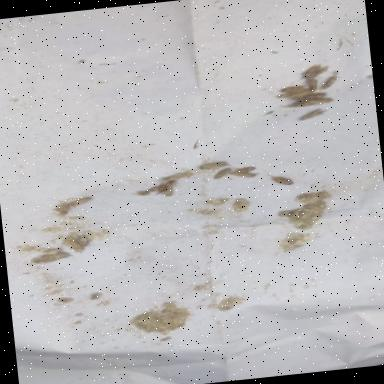pbw: (300, 108, 330, 122), (268, 172, 294, 188), (68, 238, 86, 255), (302, 64, 323, 78), (280, 102, 316, 110), (290, 89, 316, 100), (306, 96, 334, 106), (230, 170, 258, 180), (320, 76, 340, 90), (282, 84, 308, 94), (68, 197, 94, 207), (213, 168, 233, 180), (200, 162, 230, 170), (235, 166, 257, 174), (278, 92, 300, 100), (57, 203, 71, 215), (308, 78, 320, 91), (306, 93, 326, 100), (79, 237, 89, 247)
